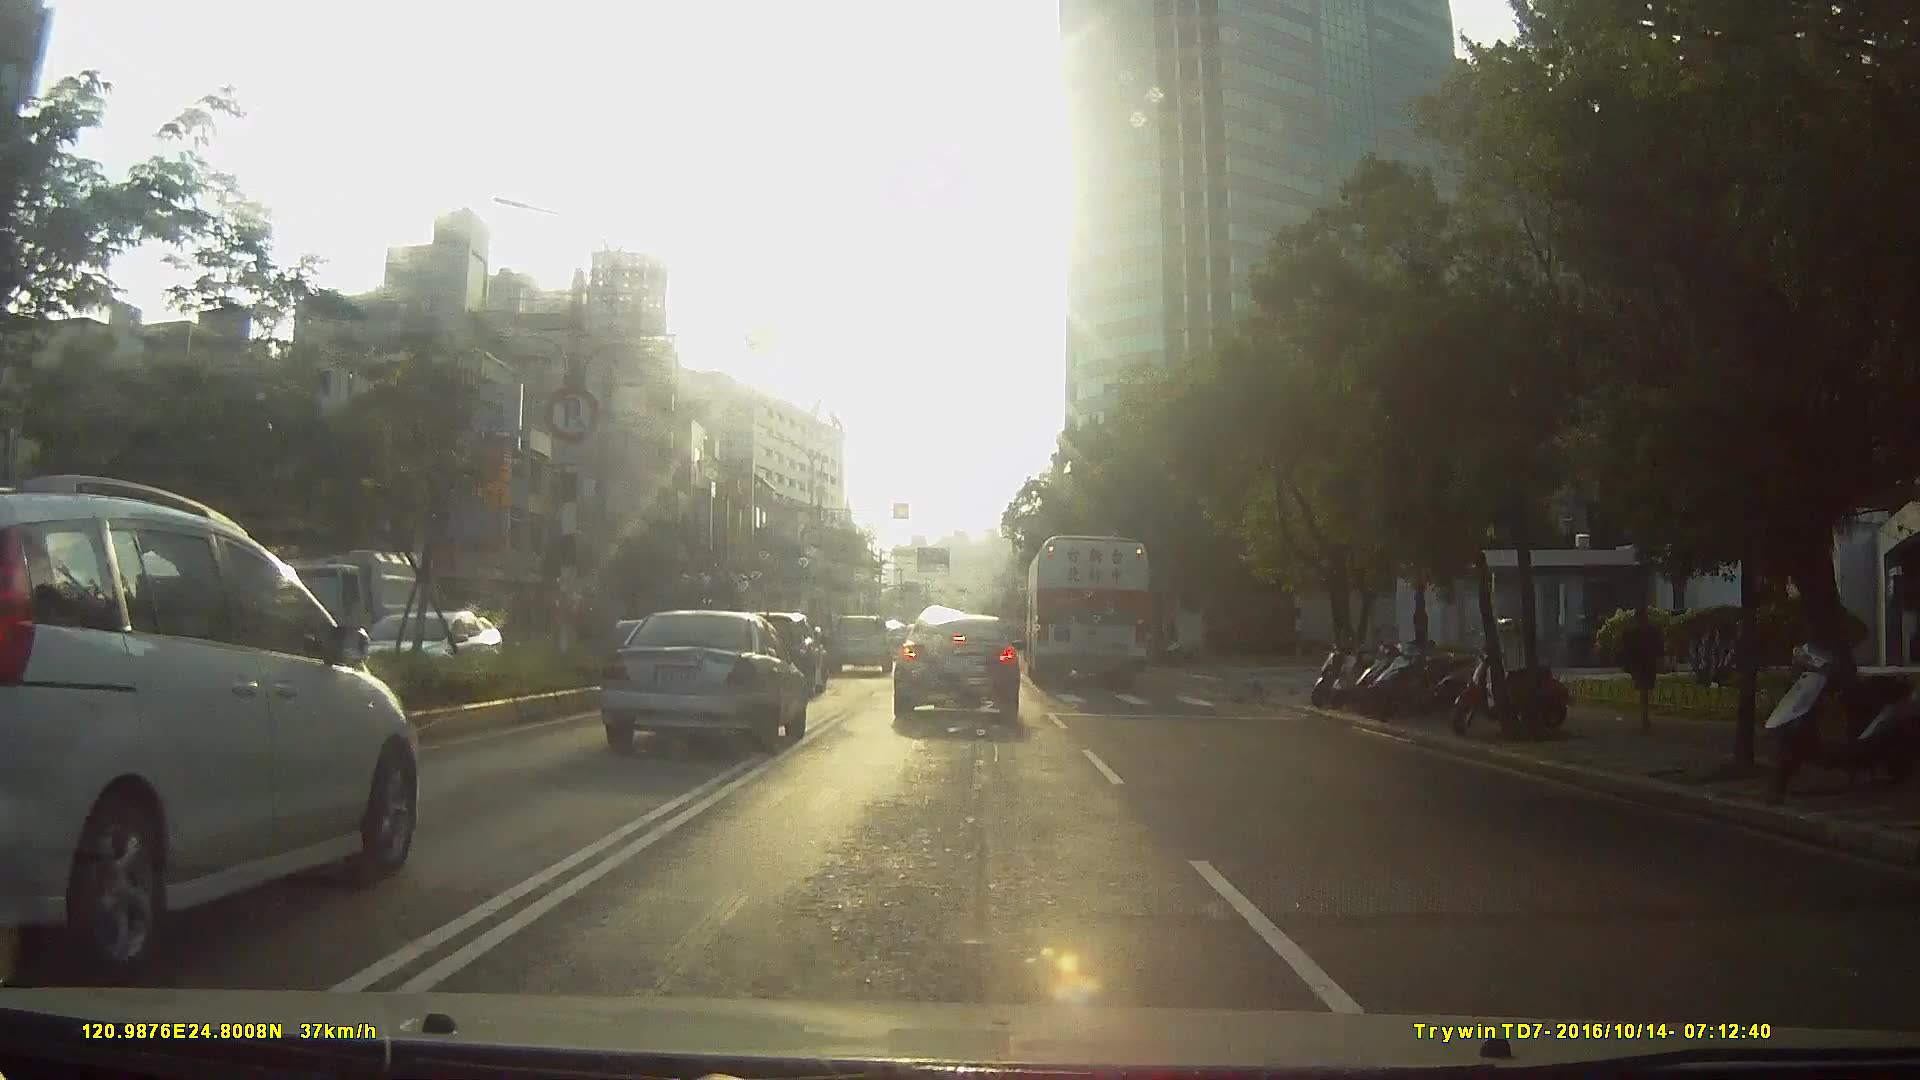pedestrian: (1624, 602, 1674, 724)
vehicle: (1, 472, 432, 972), (250, 556, 684, 868), (589, 600, 803, 748), (1022, 528, 1150, 688), (246, 542, 409, 658), (890, 603, 1020, 725), (360, 603, 506, 697), (823, 607, 891, 672)
